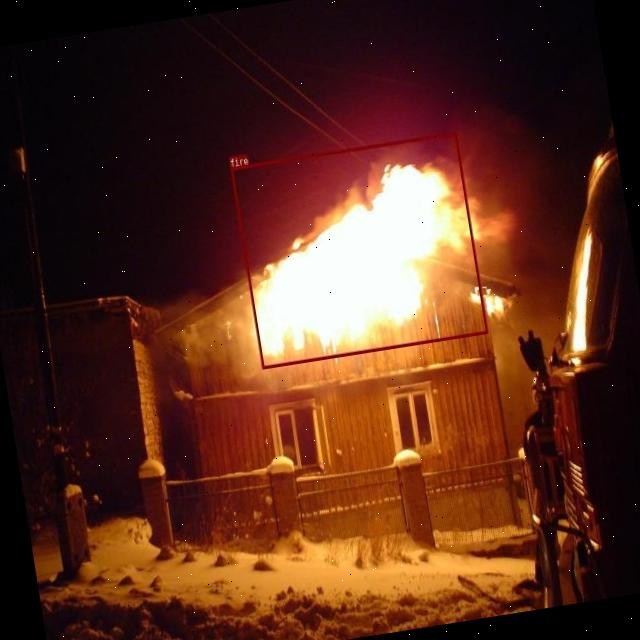fire: (230, 132, 488, 368)
